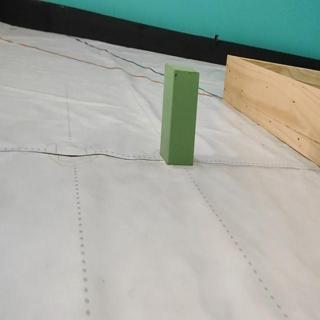greenbox: (161, 62, 198, 165)
